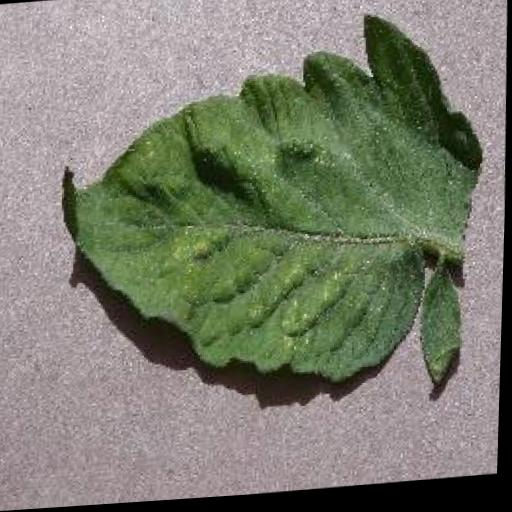Spider Mites: (50, 12, 496, 422)
